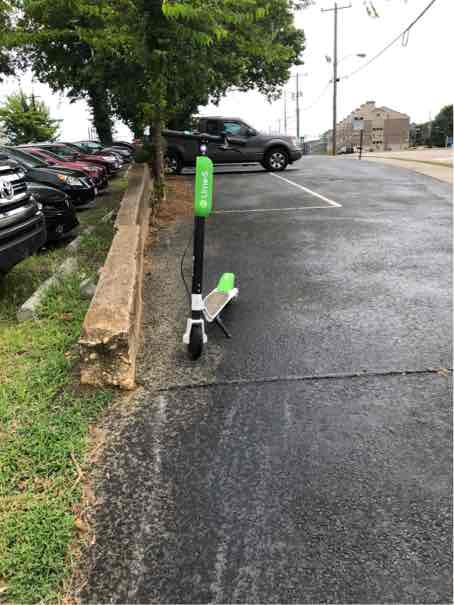scooter: (164, 144, 247, 369)
